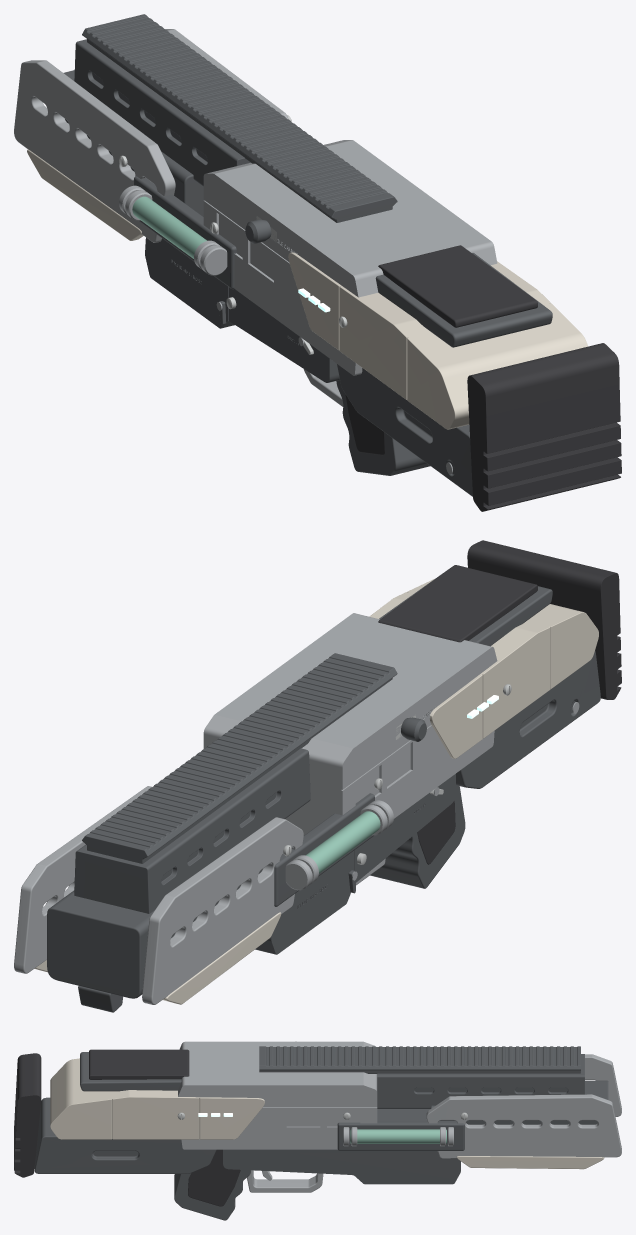
The model's file is carbine.glb.
3 renders of one model, top to bottom at view 1: azimuth 30°, elevation 25°; view 2: azimuth 150°, elevation 25°; view 3: azimuth 270°, elevation 25°, orthographic. The views are drawn at different scales.
Parts seen in each view (by area): view 1: body_dark, body_steel, body_rubber, body_shell, body_cellGlass; view 2: body_dark, body_steel, body_rubber, body_shell, body_cellGlass; view 3: body_dark, body_steel, body_shell, body_rubber, body_cellGlass.
Boxes of the visible parts, x1,y1,x2,y2 form: body_dark: (64, 14, 552, 496); body_steel: (14, 29, 497, 474); body_rubber: (345, 245, 621, 511); body_shell: (27, 149, 587, 429); body_cellGlass: (132, 196, 207, 258); body_dark: (47, 568, 600, 1012); body_steel: (14, 613, 579, 1004); body_rubber: (378, 540, 621, 864); body_shell: (34, 579, 598, 1004); body_cellGlass: (305, 811, 380, 873); body_dark: (34, 1046, 608, 1220); body_steel: (178, 1041, 621, 1192); body_shell: (50, 1058, 604, 1169); body_rubber: (14, 1049, 240, 1206); body_cellGlass: (350, 1129, 446, 1143).
Bounding box in the file's own units: 0.211 × 0.2537 × 0.907.
